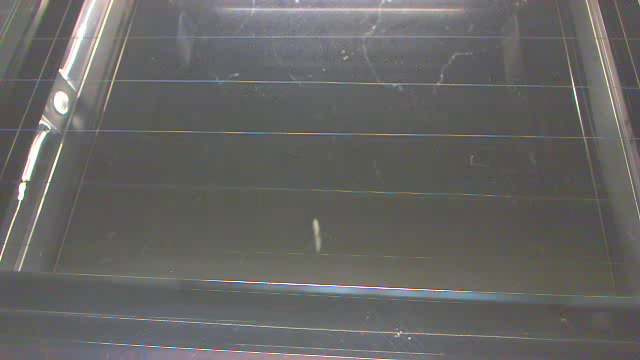alpha: (309, 213, 327, 260)
